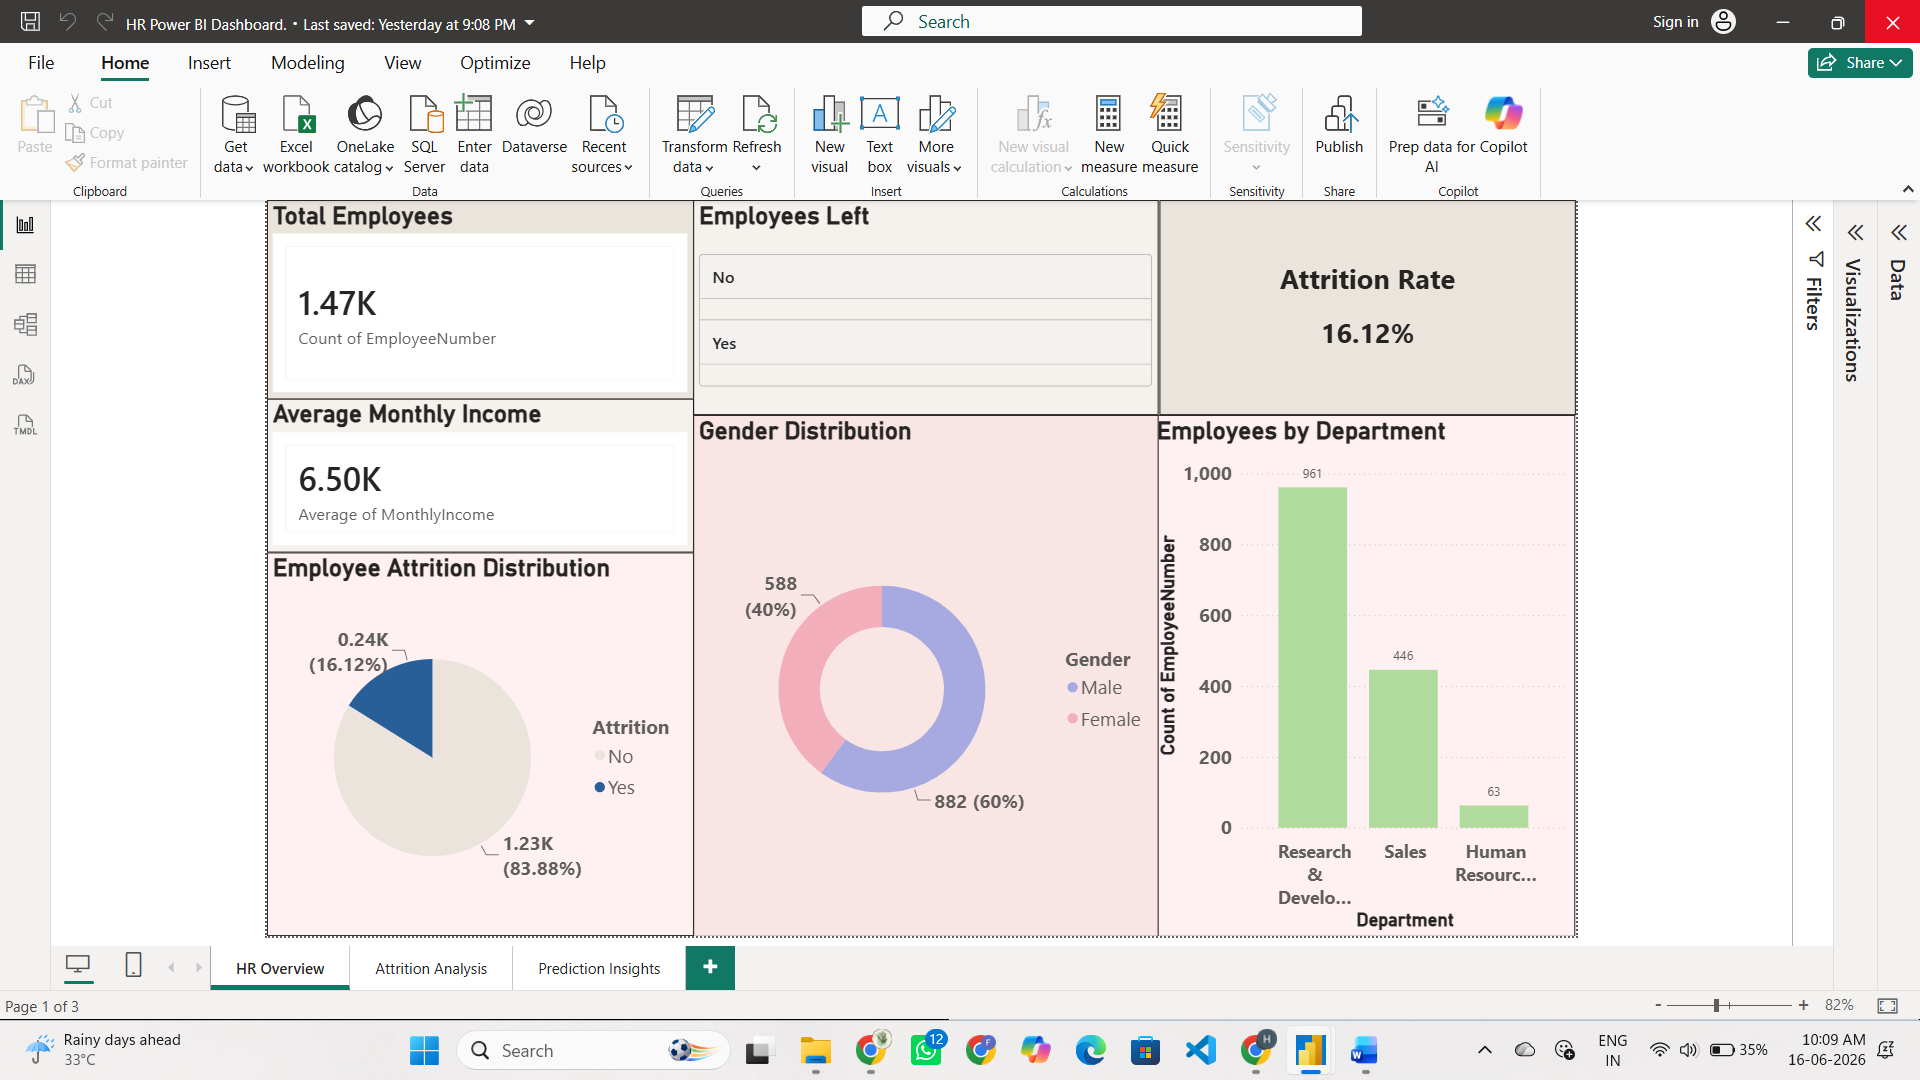

This screenshot's page, from the dashboard's own definition file:
{"tool":"powerbi","page":{"name":"HR Overview","canvas":[1280,720],"ordinal":0},"visuals":[{"type":"cardVisual","title":"Total Employees","fields":{"Data":["CountNonNull(WA_Fn-UseC_-HR-Employee-Attrition.EmployeeNumber)"]},"box":[0,0,417.5,195],"z":0},{"type":"cardVisual","title":"Employees Left","fields":{"Rows":["WA_Fn-UseC_-HR-Employee-Attrition.Attrition"]},"box":[417.5,0,455,210],"z":1000},{"type":"textbox","box":[872.5,0,407.5,210],"z":2000},{"type":"cardVisual","title":"Average Monthly Income","fields":{"Data":["Avg(WA_Fn-UseC_-HR-Employee-Attrition.MonthlyIncome)"]},"box":[0,195,417.5,150],"z":3000},{"type":"pieChart","title":"Employee Attrition Distribution","fields":{"Category":["WA_Fn-UseC_-HR-Employee-Attrition.Attrition"],"Y":["CountNonNull(WA_Fn-UseC_-HR-Employee-Attrition.Attrition)"]},"box":[0,345,417.5,375],"z":4000},{"type":"clusteredColumnChart","title":"Employees by Department","fields":{"Y":["CountNonNull(WA_Fn-UseC_-HR-Employee-Attrition.EmployeeNumber)"],"Category":["WA_Fn-UseC_-HR-Employee-Attrition.Department"]},"box":[865,210,415,510],"z":5000},{"type":"donutChart","title":"Gender Distribution","fields":{"Category":["WA_Fn-UseC_-HR-Employee-Attrition.Gender"],"Y":["CountNonNull(WA_Fn-UseC_-HR-Employee-Attrition.EmployeeNumber)"]},"box":[417.5,210,455,510],"z":6000}]}

Visuals, with their boxes on the page's 1280x720 design canvas (x1, y1, x2, y2). These are canvas units, not pixel positions in the 1920x1080 screenshot, which may show the page scaled, cropped or inside an application window:
"Total Employees" cardVisual: box(0, 0, 418, 195)
"Employees Left" cardVisual: box(418, 0, 872, 210)
textbox: box(872, 0, 1280, 210)
"Average Monthly Income" cardVisual: box(0, 195, 418, 345)
"Employee Attrition Distribution" pieChart: box(0, 345, 418, 720)
"Employees by Department" clusteredColumnChart: box(865, 210, 1280, 720)
"Gender Distribution" donutChart: box(418, 210, 872, 720)
